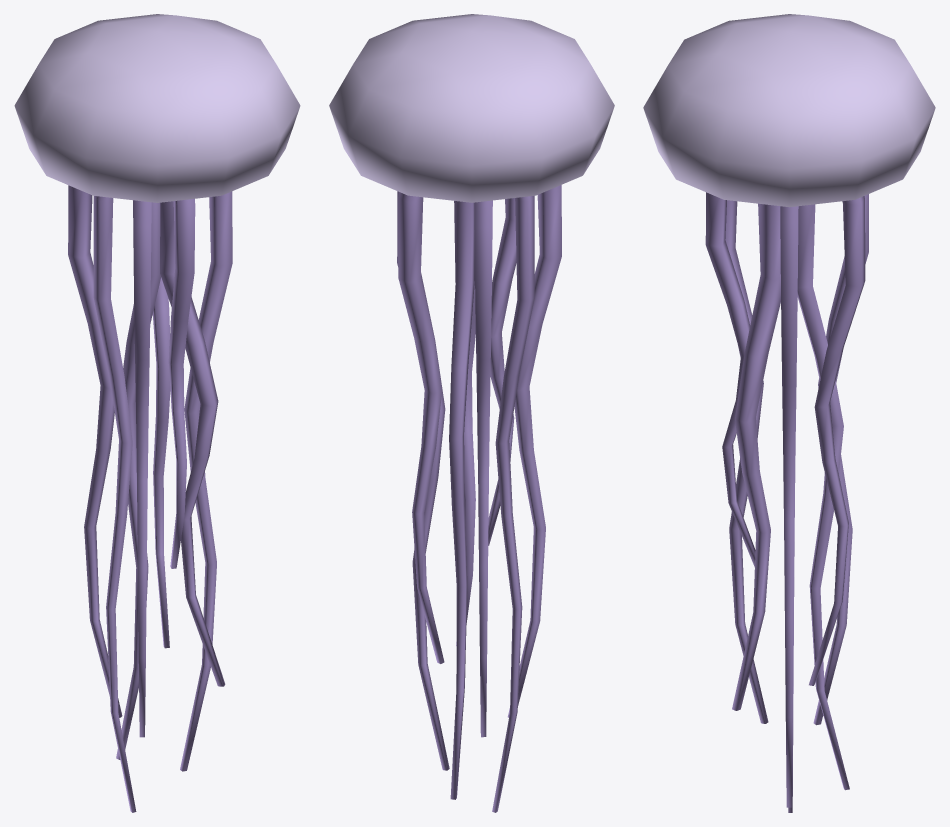
File: Medusa.glb
3 views of the same model, side by side, from view 1: azimuth 30°, elevation 25°; view 2: azimuth 150°, elevation 25°; view 3: azimuth 270°, elevation 25° (orthographic). The views are drawn at different scales.
Visible parts, largest first — view 1: Medusa_001; view 2: Medusa_001; view 3: Medusa_001.
Part boxes in pixels (left/top/right/bottom): Medusa_001: left=14, top=14, right=300, bottom=812; Medusa_001: left=329, top=14, right=614, bottom=812; Medusa_001: left=643, top=14, right=935, bottom=812.
Size of what is drawn, in the model's own units: 0.6192 by 1.85 by 0.6192.
Materials: 1 (1 with a texture image).
